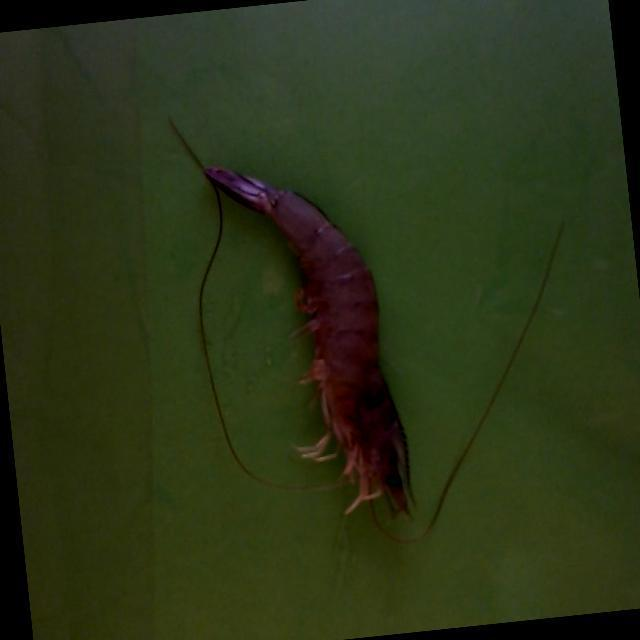shrimp: (202, 167, 407, 514)
